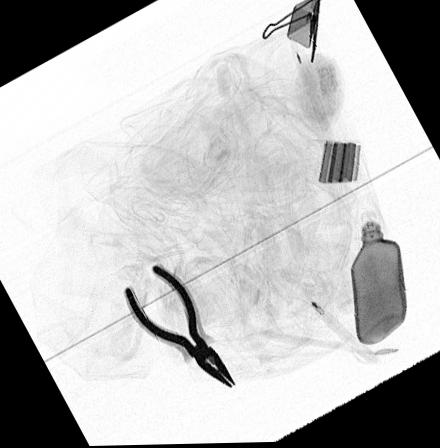Pliers: (124, 265, 238, 392)
